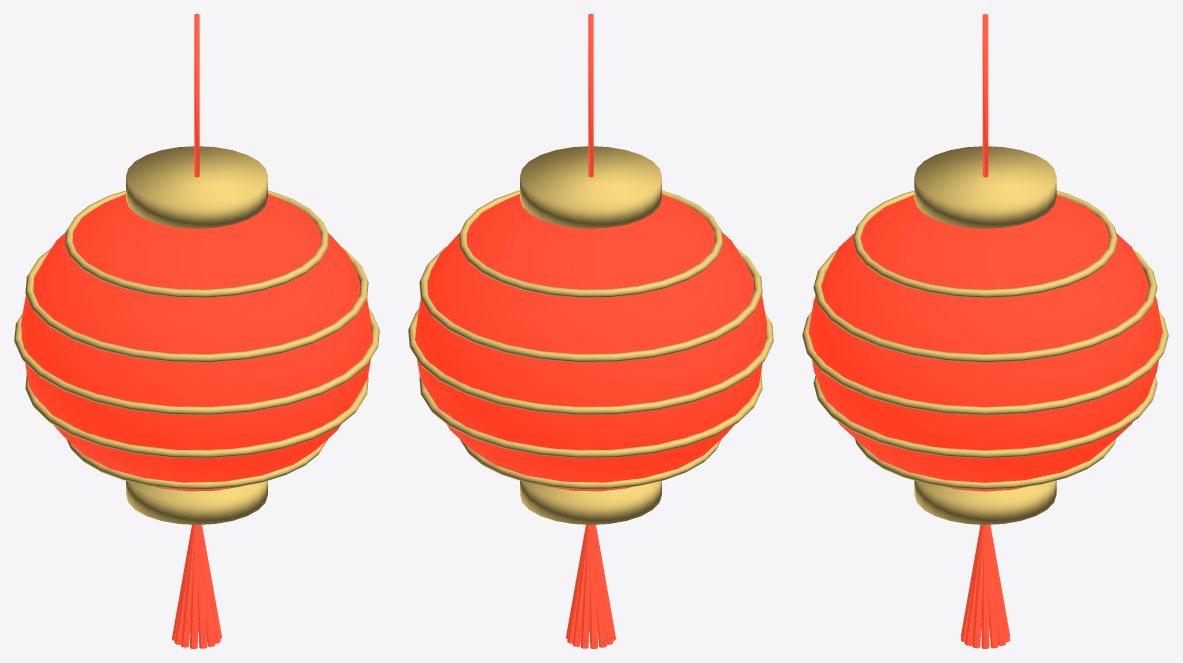
File: lantern.glb
3 views of the same model, side by side, from view 1: azimuth 30°, elevation 25°; view 2: azimuth 150°, elevation 25°; view 3: azimuth 270°, elevation 25° (orthographic).
Visible parts, largest first — view 1: lantern_paper, lantern_gold, lantern_hanging; view 2: lantern_paper, lantern_gold, lantern_hanging; view 3: lantern_paper, lantern_gold, lantern_hanging.
Part boxes in pixels (x1=…): lantern_paper: x1=21, y1=194, x2=372, y2=491; lantern_gold: x1=14, y1=146, x2=379, y2=524; lantern_hanging: x1=172, y1=14, x2=221, y2=648; lantern_paper: x1=415, y1=194, x2=766, y2=491; lantern_gold: x1=408, y1=146, x2=773, y2=524; lantern_hanging: x1=566, y1=14, x2=615, y2=648; lantern_paper: x1=808, y1=195, x2=1162, y2=491; lantern_gold: x1=802, y1=146, x2=1168, y2=524; lantern_hanging: x1=960, y1=14, x2=1010, y2=648.
Bounding box in the file's own units: 1.03 × 1.94 × 1.03.
